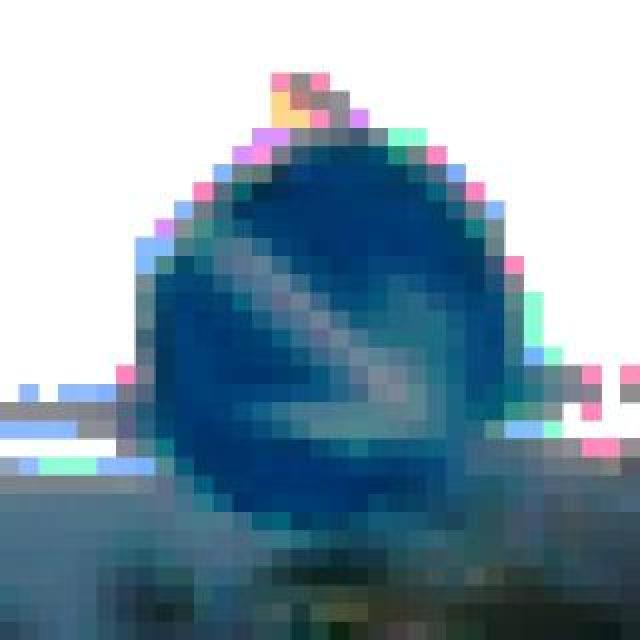keep right: (118, 110, 506, 550)
